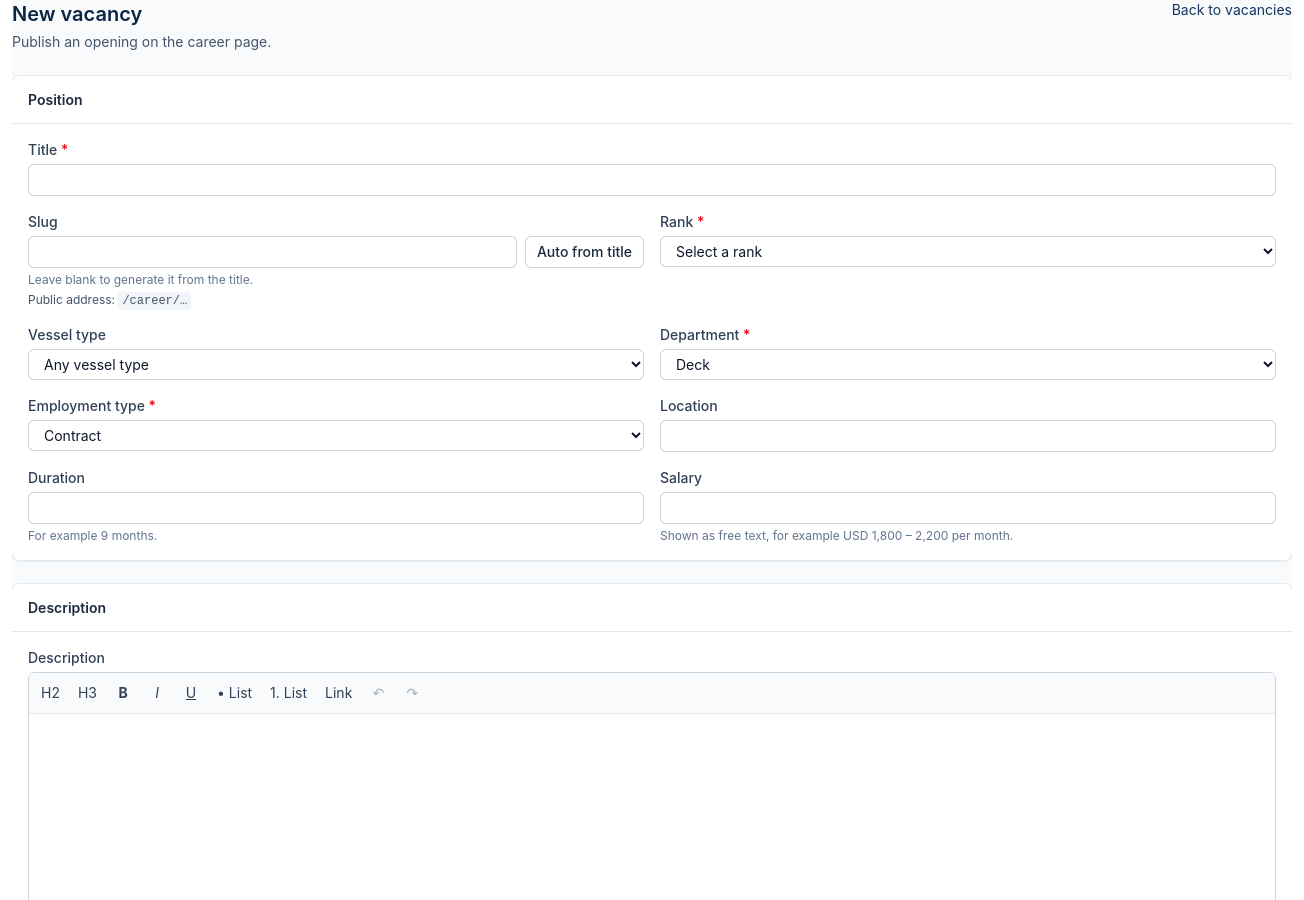
Scenario: VacancyFormPage › maps server field errors onto the matching fields
Type "Master" into the field labelled "Title *" at (652, 180), box [28, 164, 1276, 196]
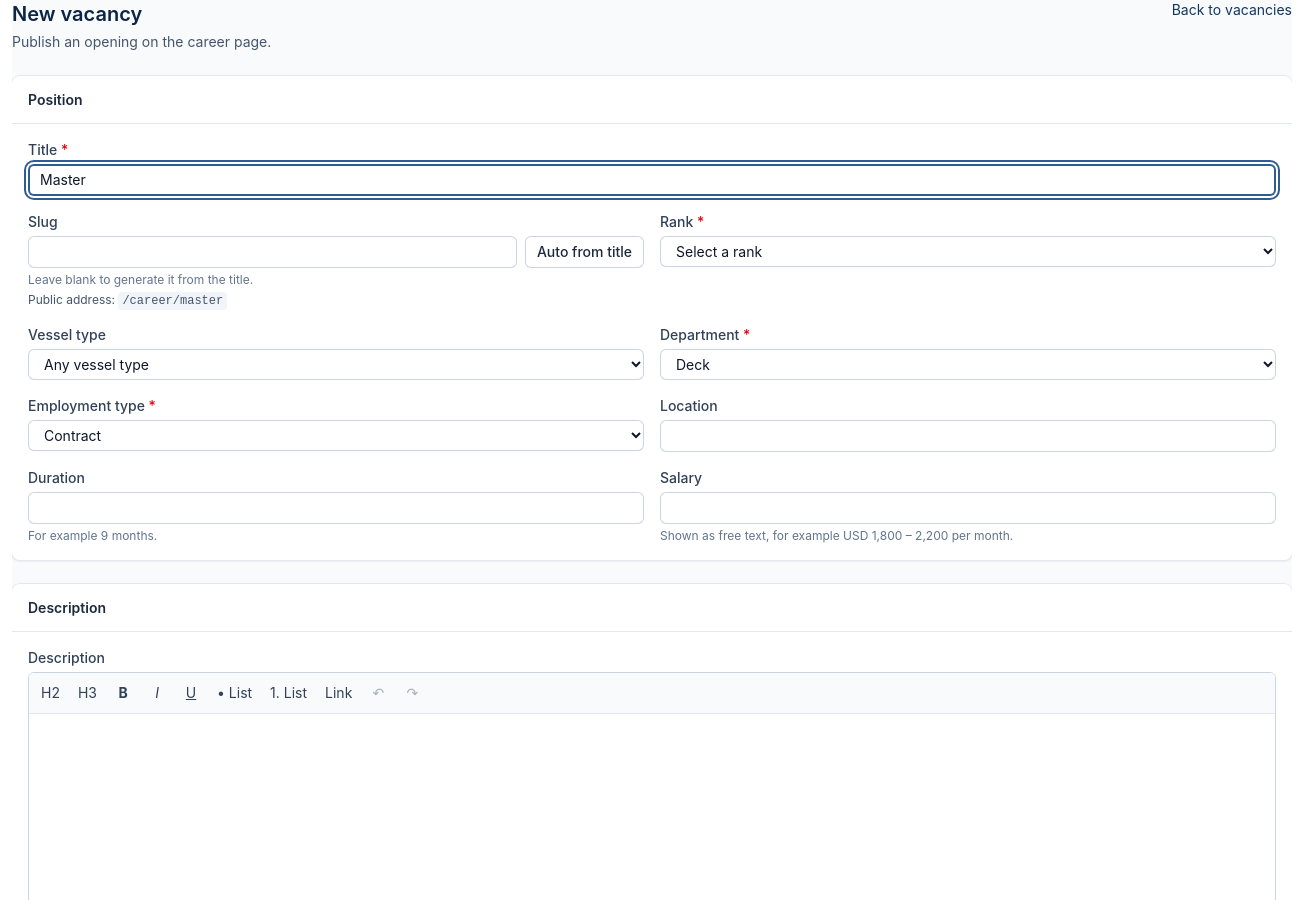
Select "Master" in the dropdown labelled "Rank *" at (968, 252), box [660, 236, 1276, 267]
(page scrolled)
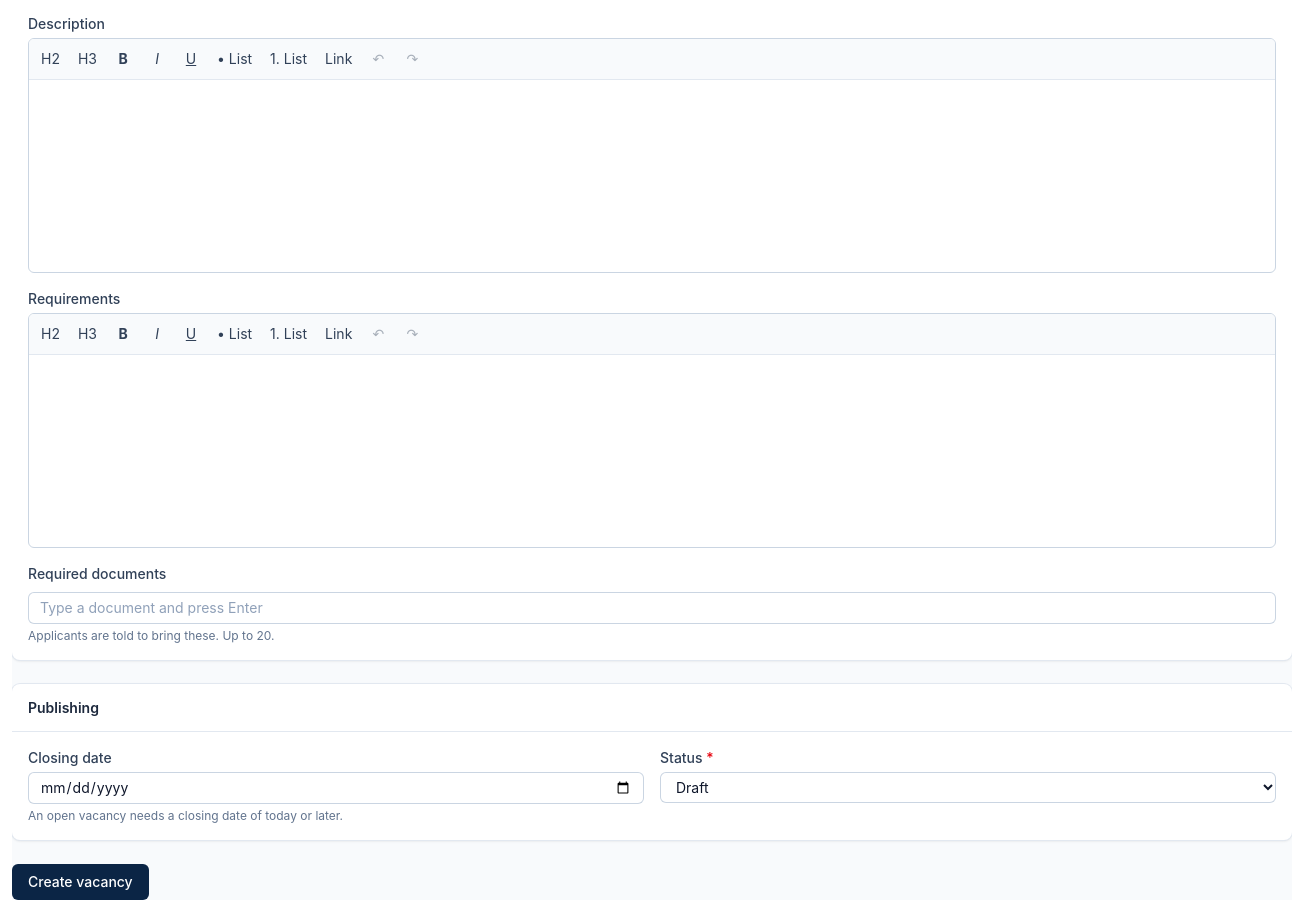
Click the button "Create vacancy" at (80, 882), box [12, 864, 149, 899]
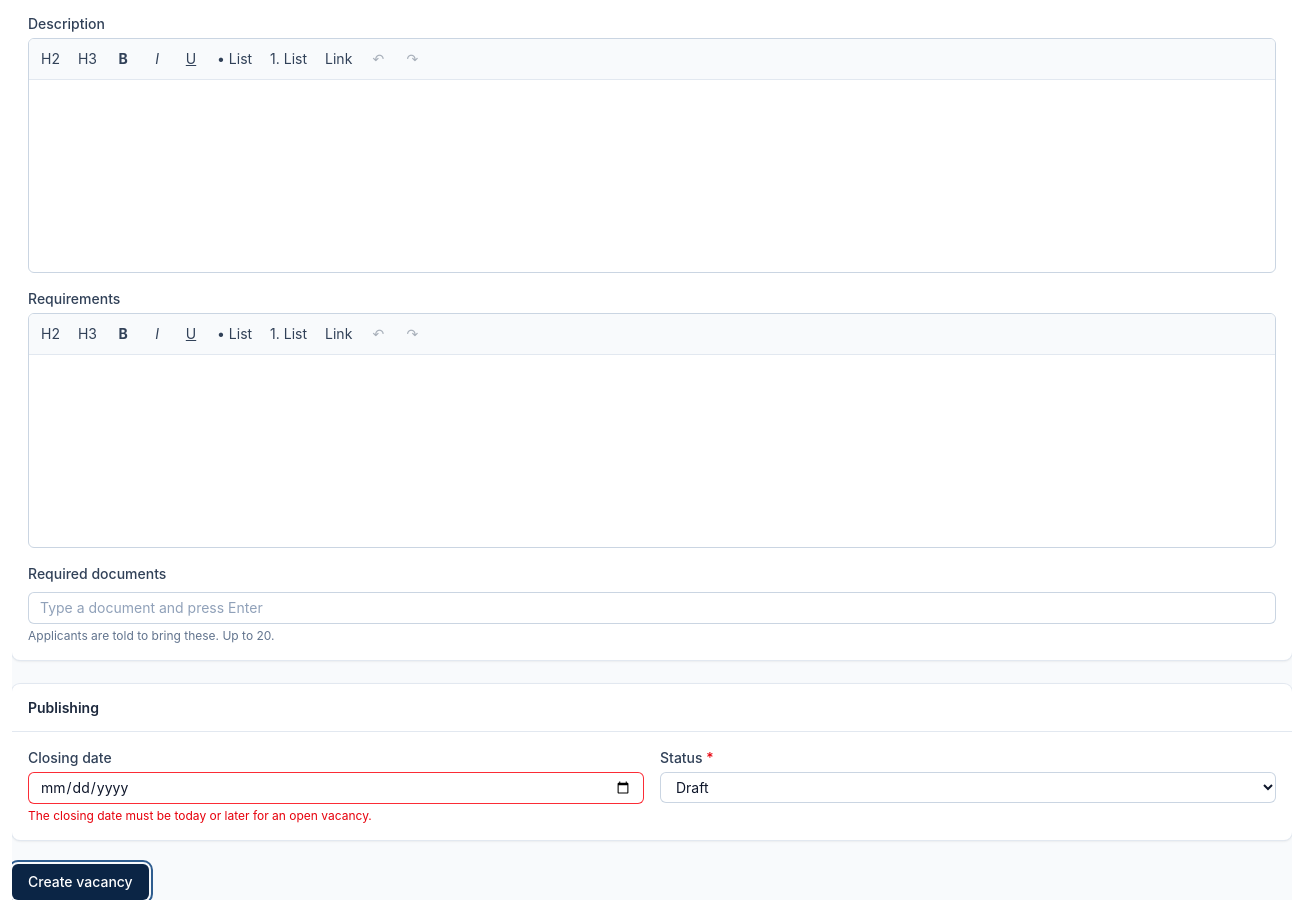
Now the text "The closing date must be today or later for an open vacancy." is shown, box [28, 808, 372, 823]
